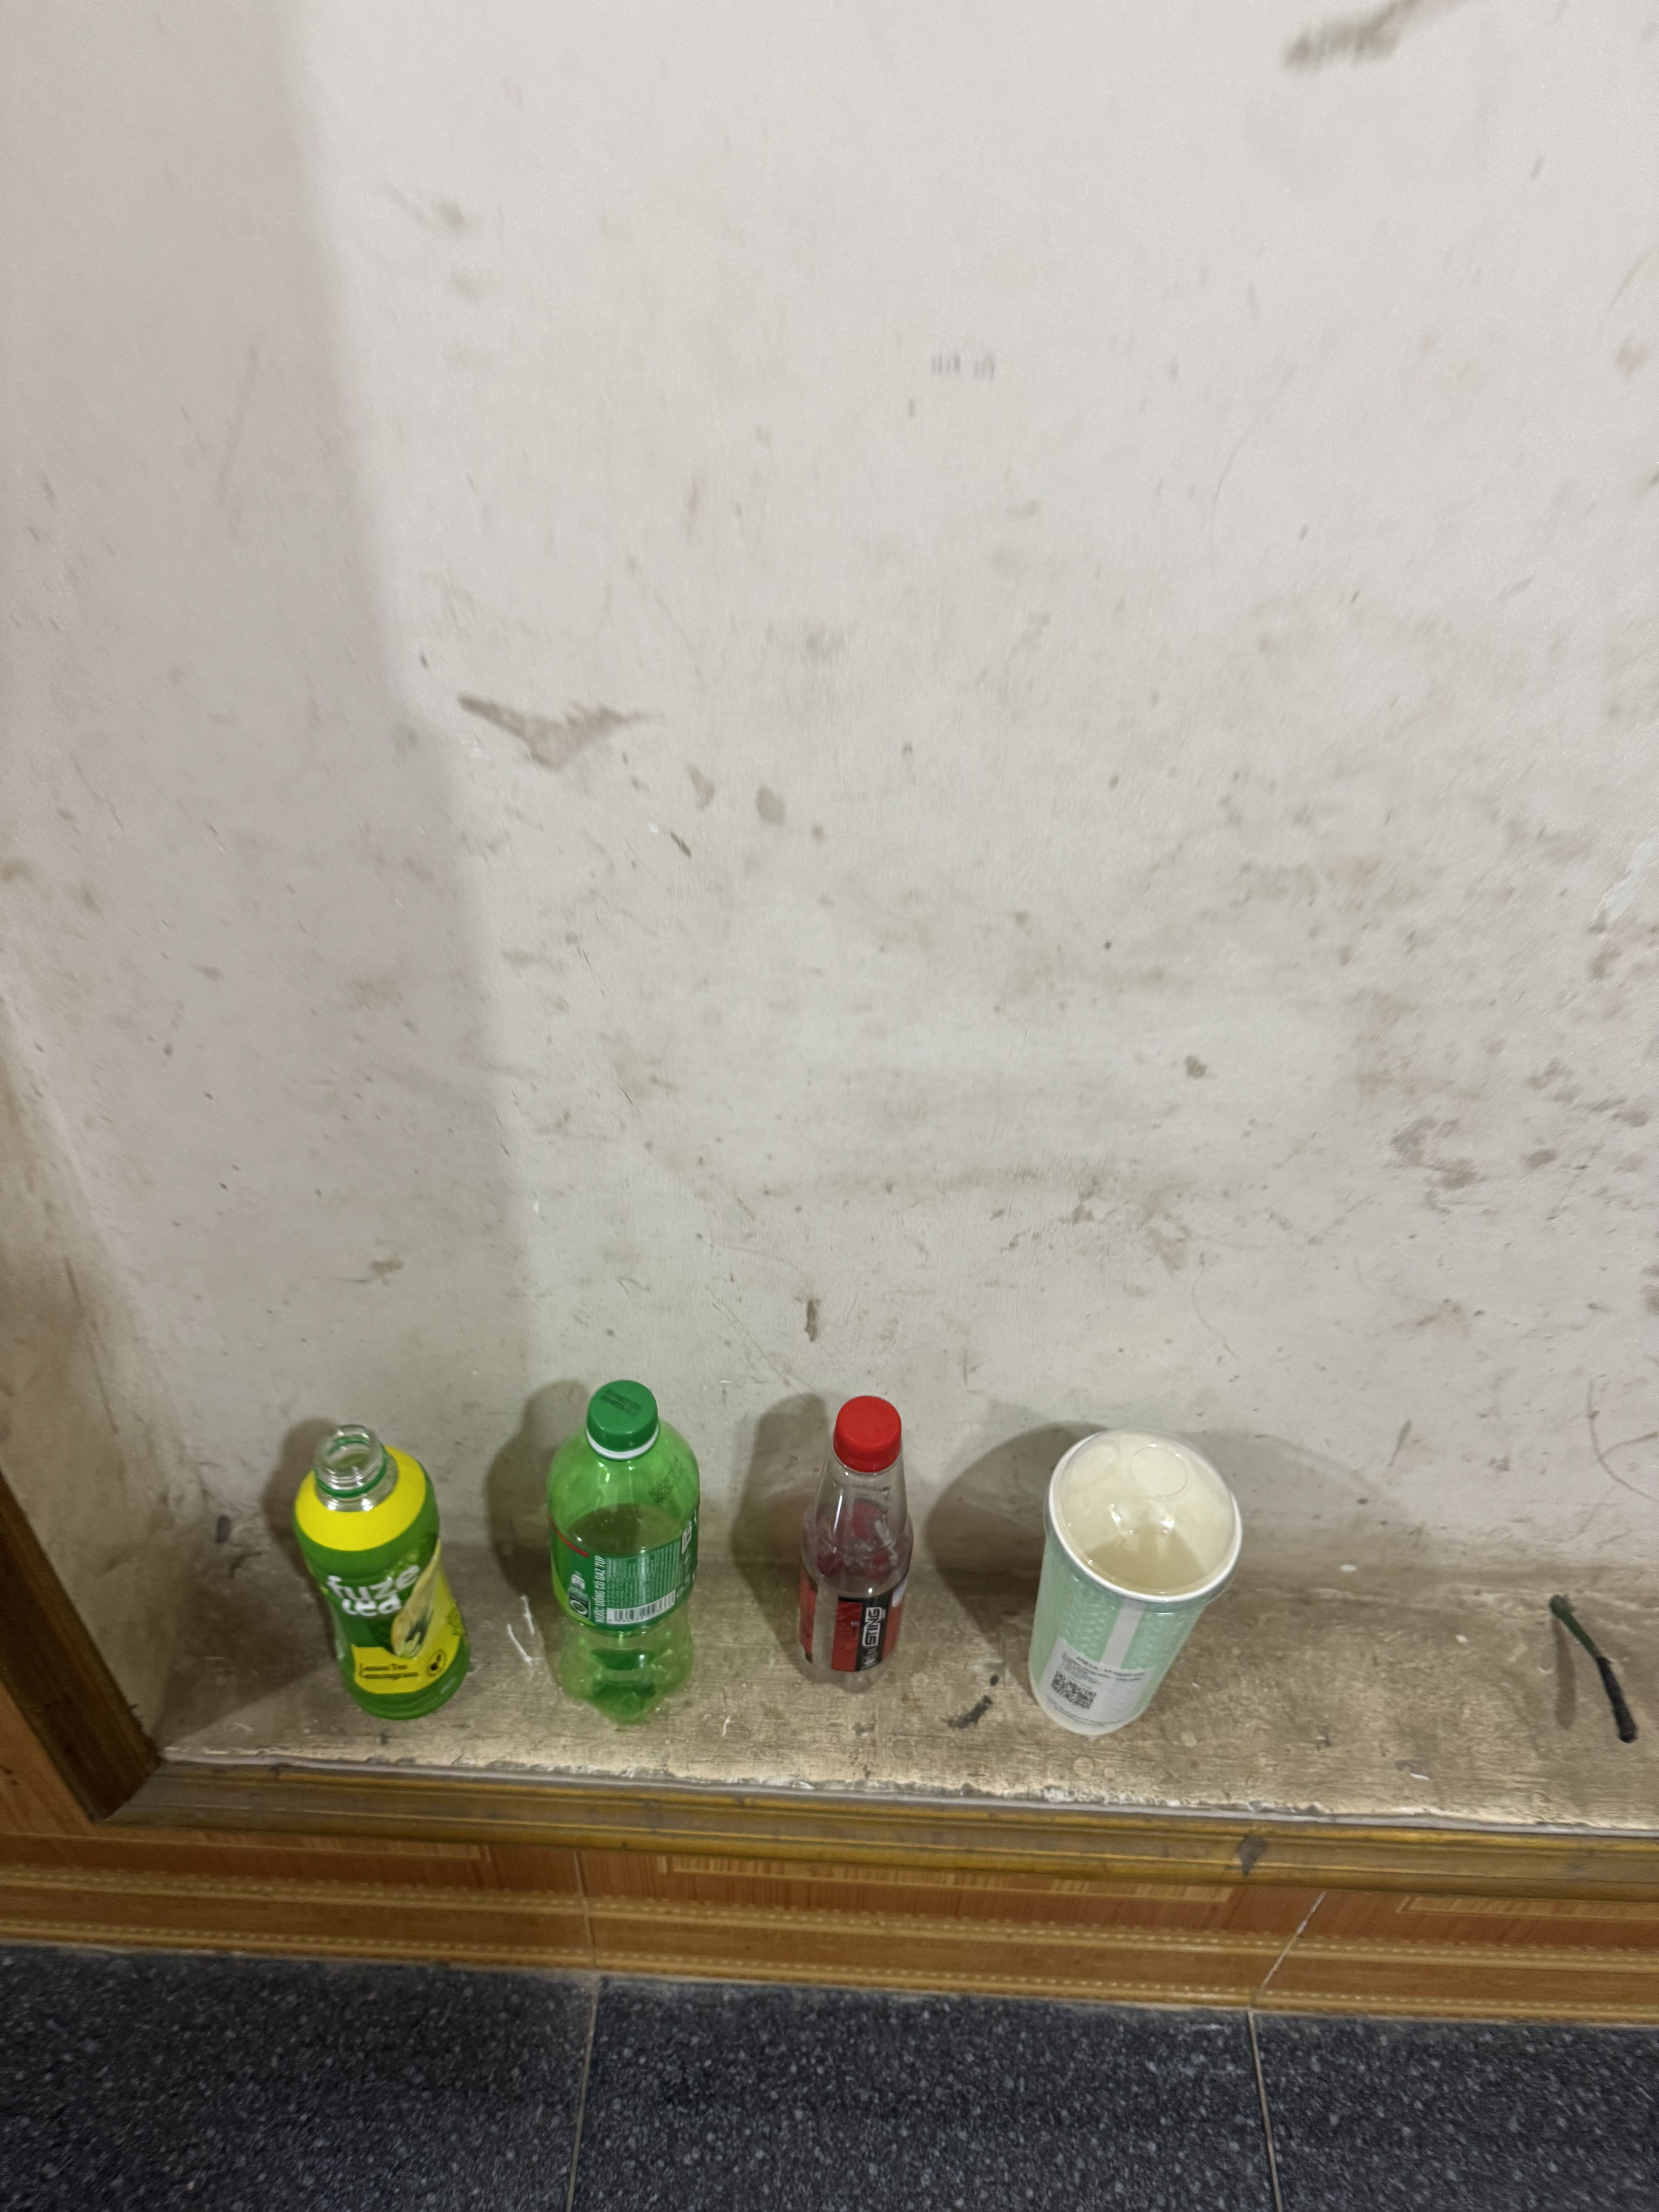2: (1002, 1416, 1260, 1764)
bottle: (249, 1399, 505, 1750), (512, 1359, 741, 1747), (781, 1379, 948, 1714)
